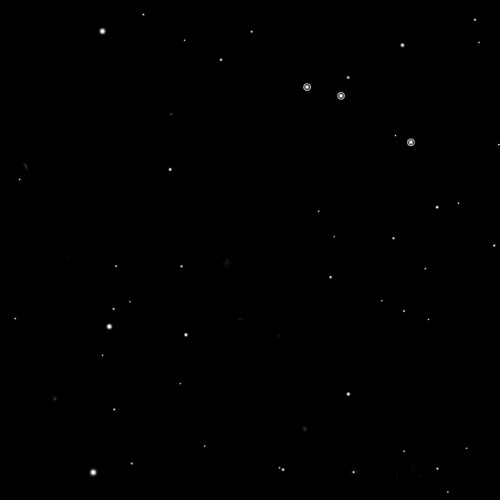vulpecula: (298, 78, 419, 150)
